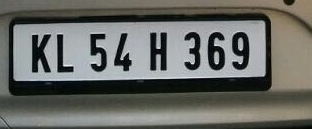3: (183, 31, 203, 72)
4: (113, 32, 133, 72)
5: (88, 31, 109, 73)
6: (206, 30, 227, 72)
9: (230, 29, 252, 71)
H: (148, 30, 169, 73)
K: (29, 31, 54, 73)
L: (55, 31, 76, 74)
